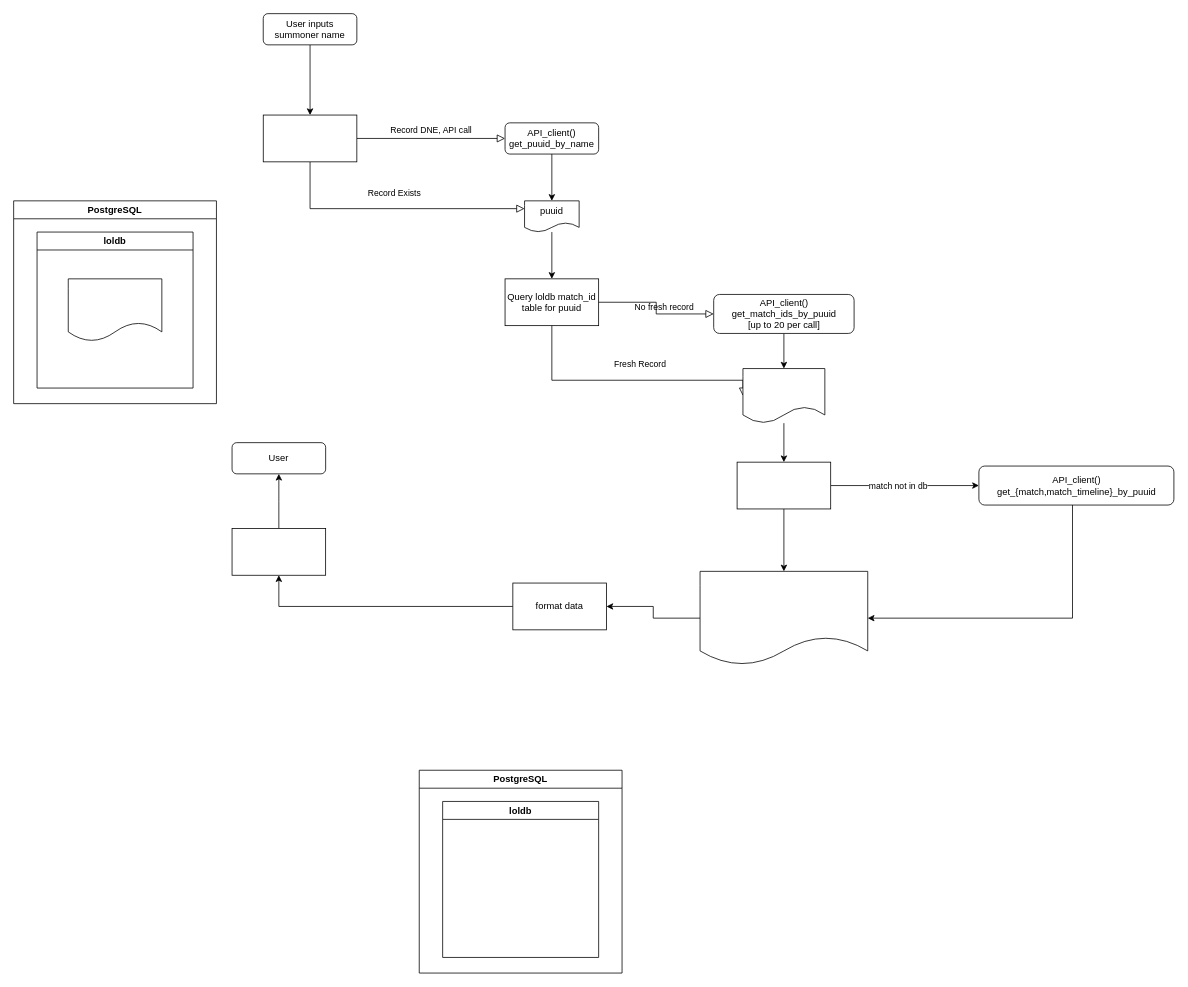
Some shapes in this 1188 by 987 pixel diagram are drawn without their labels. Here are the shapes that lost their labels. From the top down, the box of each, then its label:
(262, 114, 357, 162): Query loldb summoner table for summoner name
(67, 278, 162, 341): match
(742, 368, 825, 423): summoner's most recent match_ids
(736, 461, 831, 509): Query loldb match table for match_ids
(231, 528, 326, 575): display with html, css
(699, 571, 868, 665): match summaries [10]
